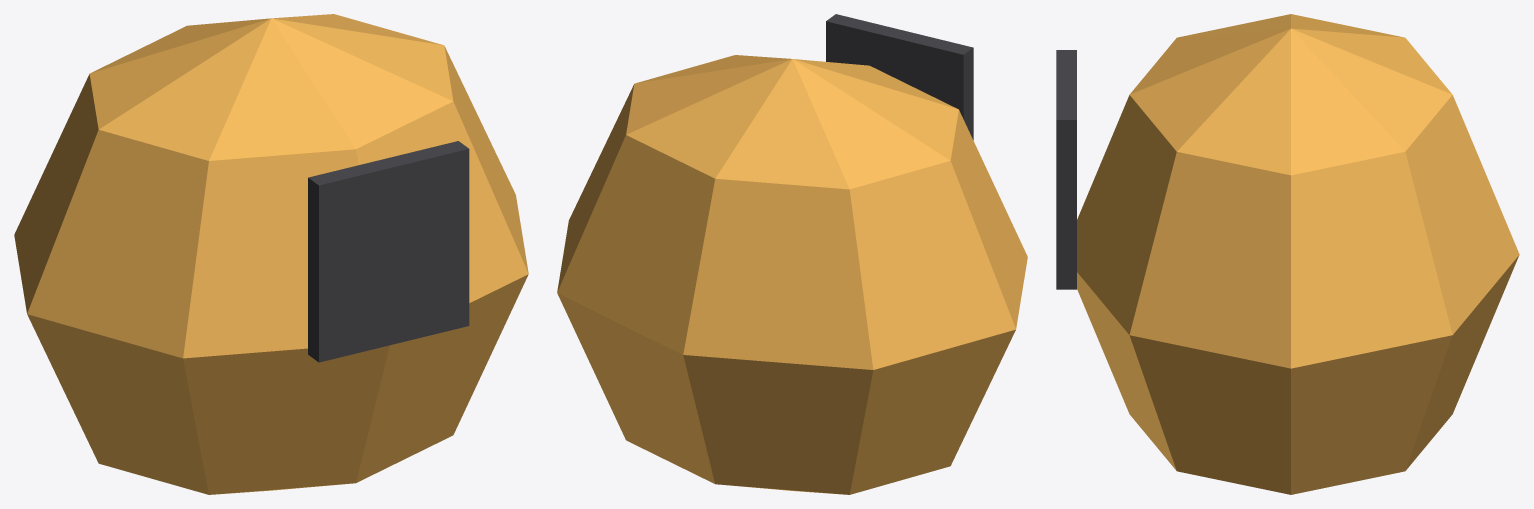
File: camp_tent.glb
3 views of the same model, side by side, from view 1: azimuth 30°, elevation 25°; view 2: azimuth 150°, elevation 25°; view 3: azimuth 270°, elevation 25° (orthographic). The views are drawn at different scales.
Parts seen in each view (by area): view 1: camp_tent; view 2: camp_tent; view 3: camp_tent.
Boxes of the visible parts, x1=… form: camp_tent: x1=14, y1=14, x2=528, y2=494; camp_tent: x1=557, y1=14, x2=1027, y2=494; camp_tent: x1=1056, y1=14, x2=1519, y2=494.
Size of the model in its own units: 2.6 by 2.4 by 2.23.
